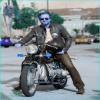motorcycles: (16, 43, 70, 99)
